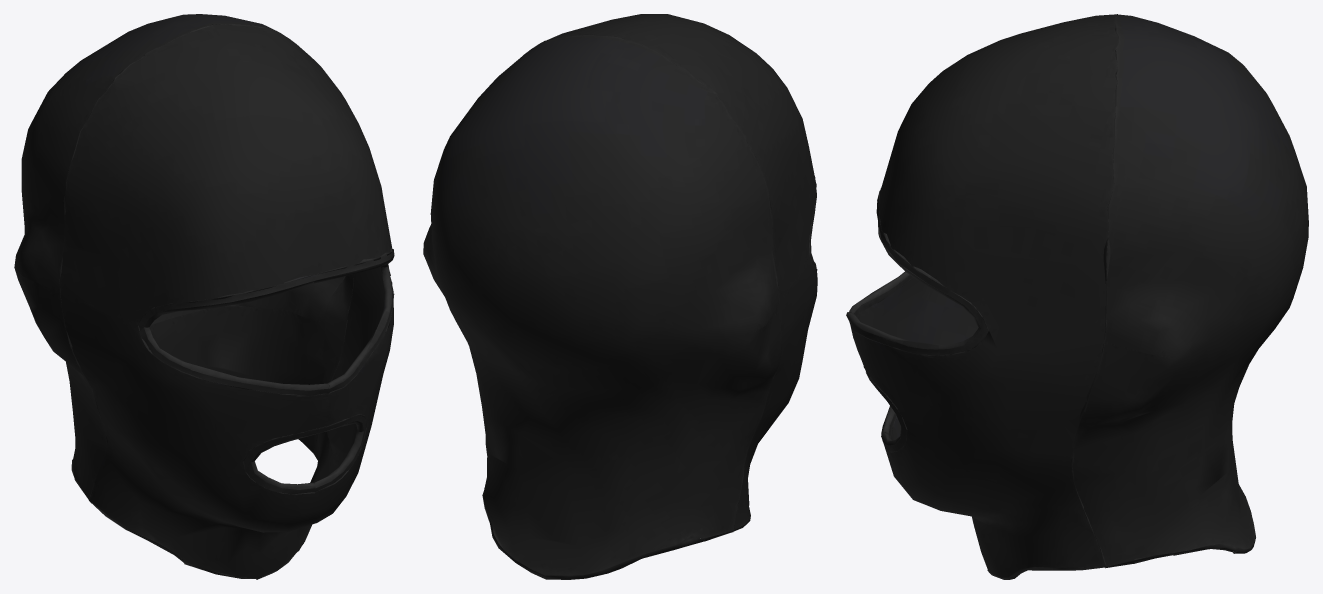
File: balaclava.glb
3 renders of one model, left to right at view 1: azimuth 30°, elevation 25°; view 2: azimuth 150°, elevation 25°; view 3: azimuth 270°, elevation 25°, orthographic. The views are drawn at different scales.
Visible parts, largest first — view 1: balaclava uv_FABRIC_1_FRONT_229518_0; view 2: balaclava uv_FABRIC_1_FRONT_229518_0; view 3: balaclava uv_FABRIC_1_FRONT_229518_0.
Part boxes in pixels (x1,y1,x2,y2): balaclava uv_FABRIC_1_FRONT_229518_0: (14, 14, 394, 579); balaclava uv_FABRIC_1_FRONT_229518_0: (423, 14, 817, 579); balaclava uv_FABRIC_1_FRONT_229518_0: (846, 14, 1308, 579).
Size of the model in its own units: 0.1954 by 0.2921 by 0.2268.
Materials: 1 (1 with a texture image).
